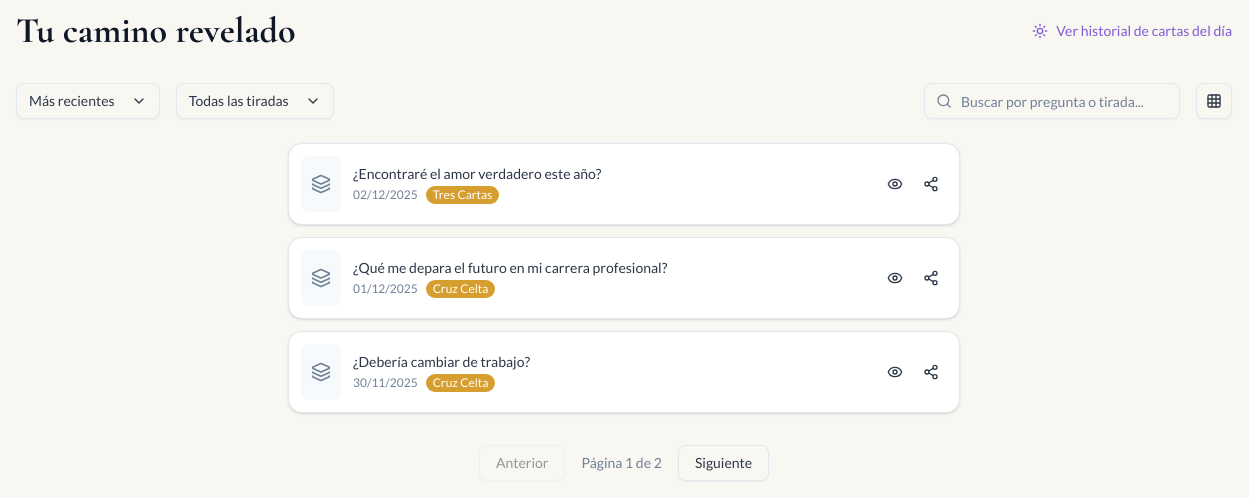
Test: HistorialPage › Pagination › should disable Next button when on actual last page
Click the button "Siguiente" at (724, 463), box x1=678 y1=445 x2=769 y2=481
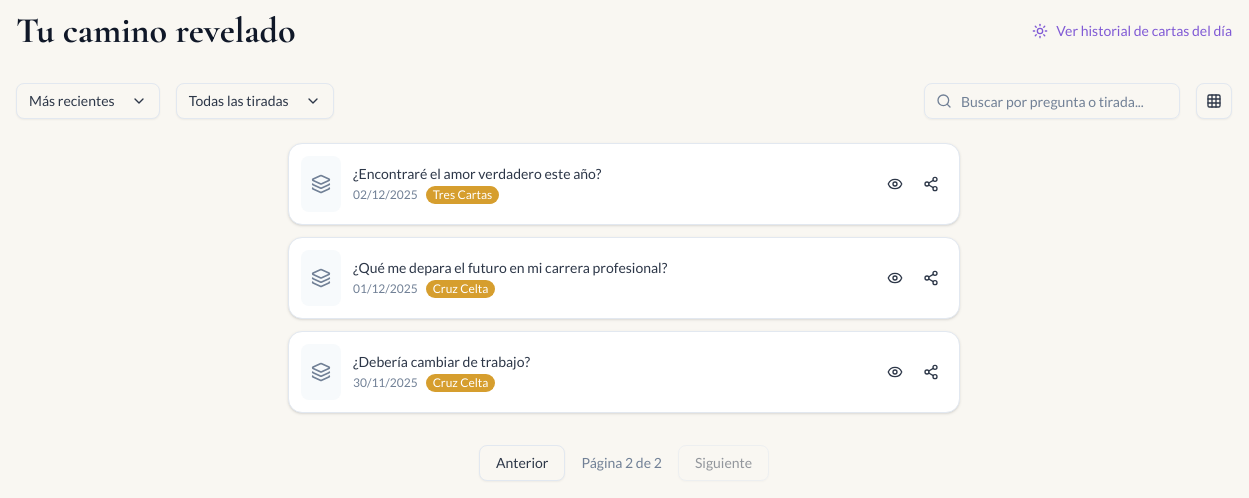
Expected: the button "Siguiente" is disabled, x1=678 y1=445 x2=769 y2=481
